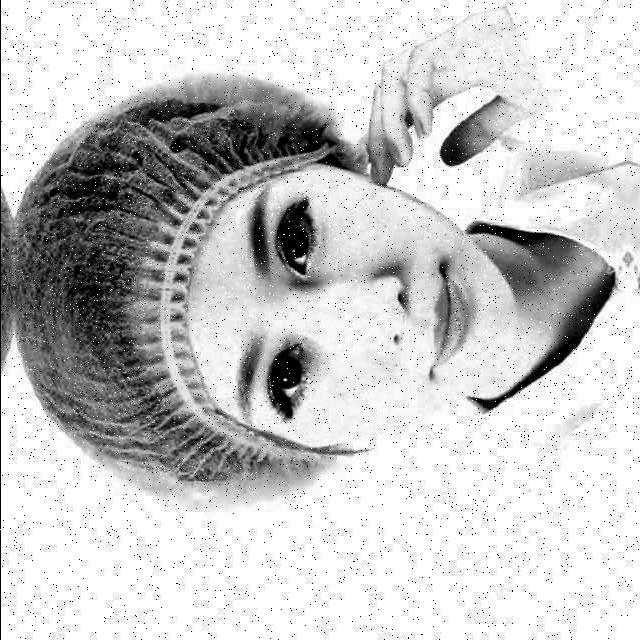gloves: (24, 92, 198, 490)
no_apron: (365, 34, 527, 184)
no_hairnet: (358, 203, 490, 407)
